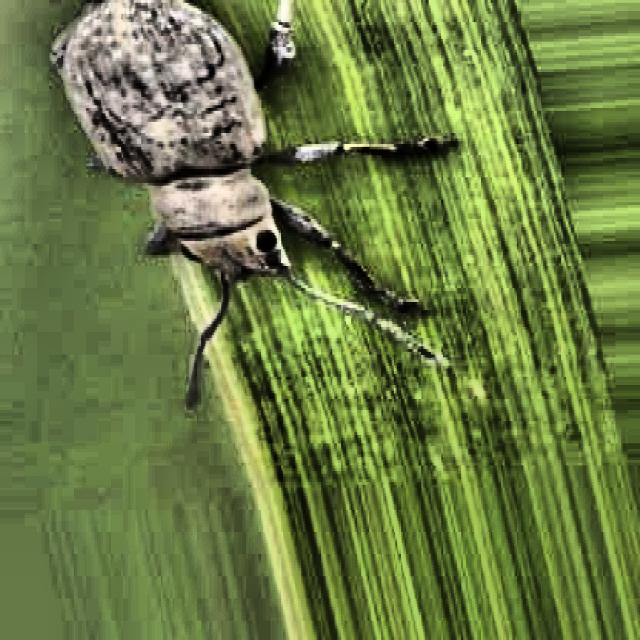Stink bug: (32, 0, 366, 363)
